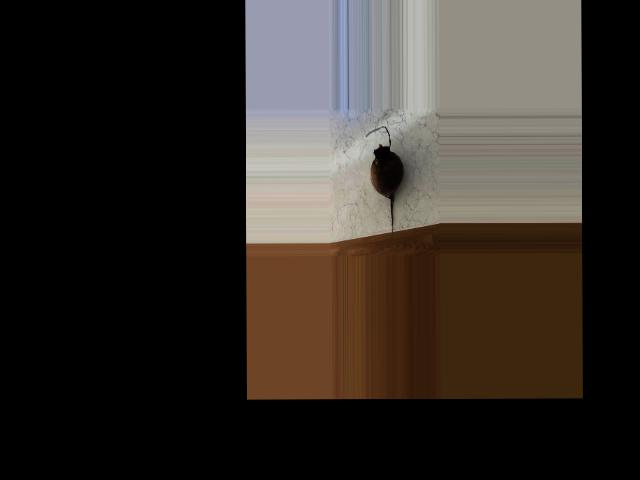beet: (366, 127, 404, 234)
